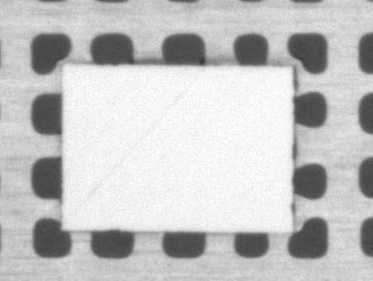DIE_CRACK: (75, 67, 207, 212)
